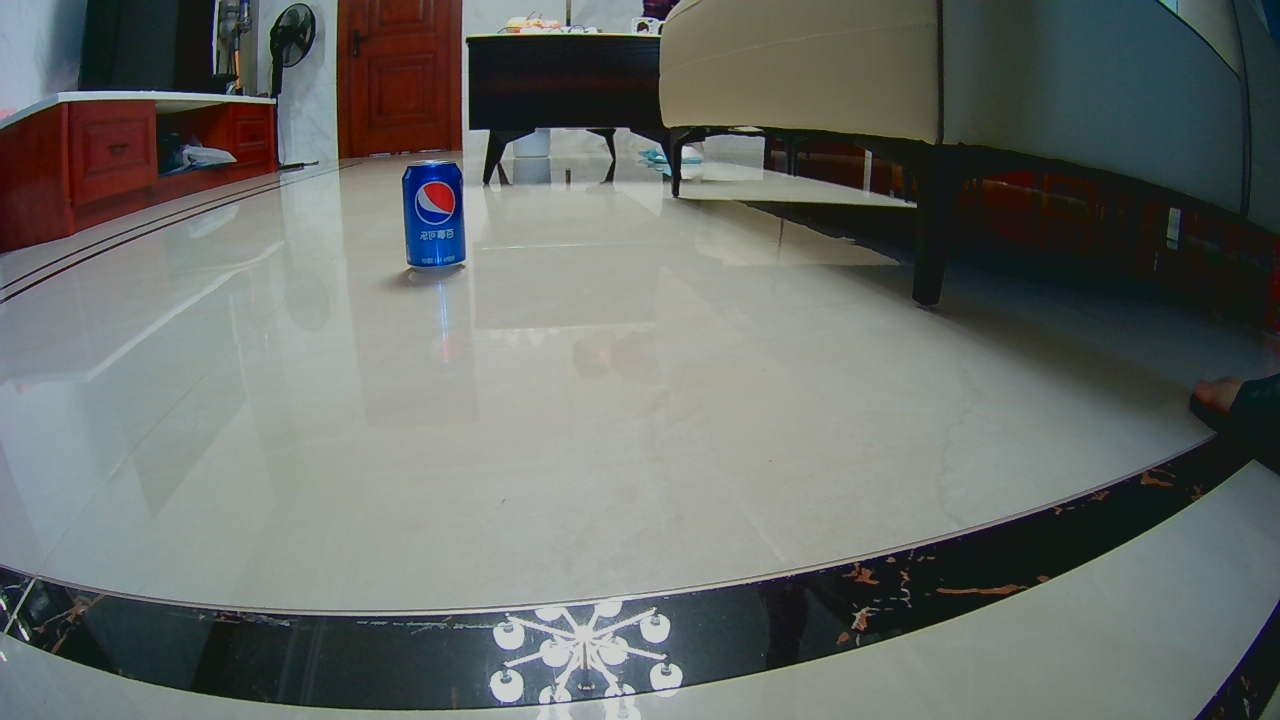pessi: (400, 163, 467, 267)
